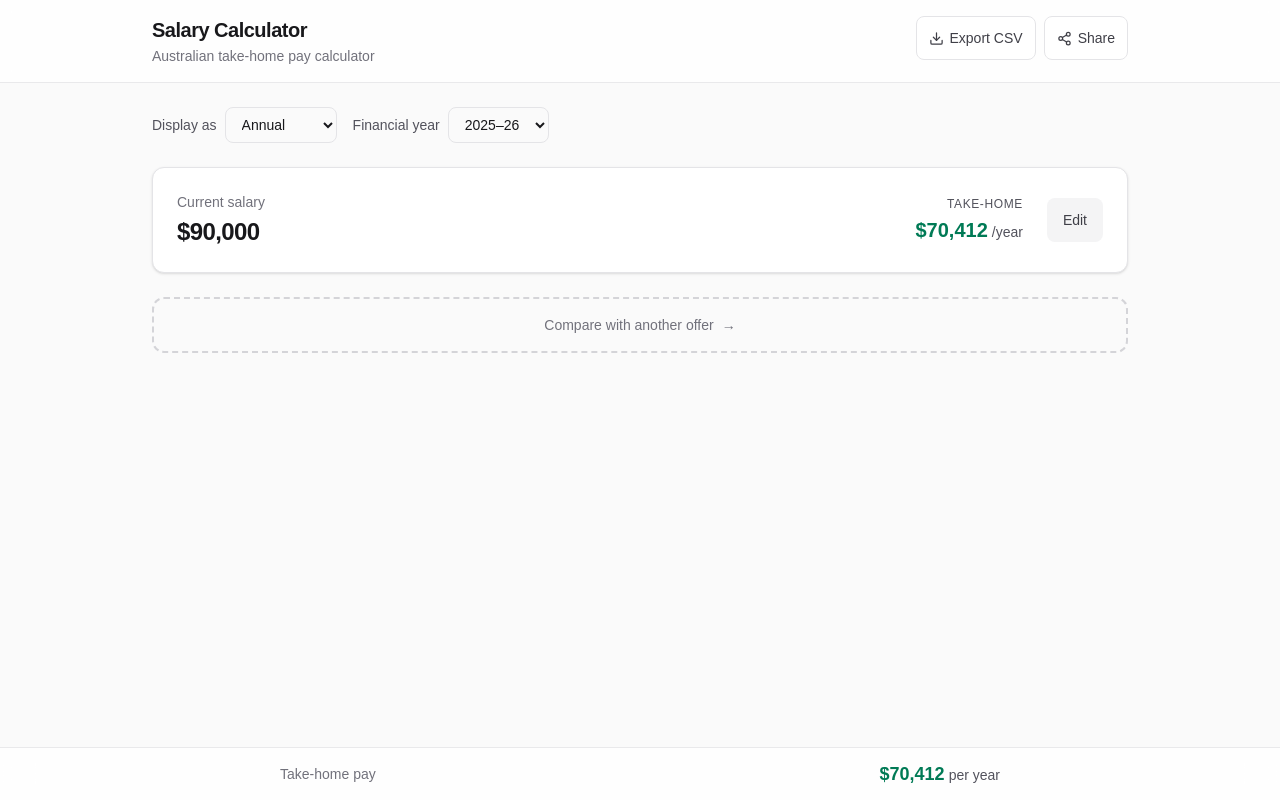
Test: QuickCheckClient › hides the compare button once two scenarios exist
Click the button "Compare with another offer →".
click(640, 325)  # box [152, 297, 1128, 353]
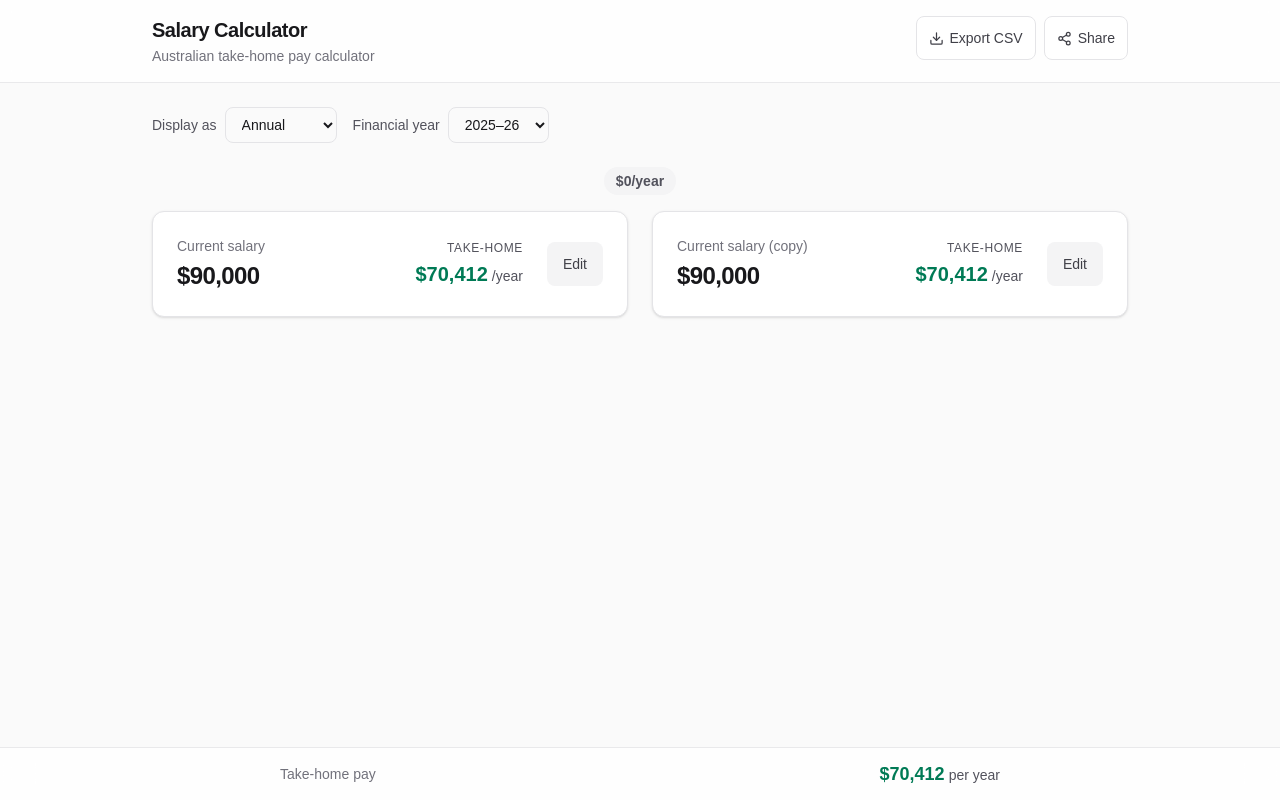
Result: the button "Compare with another offer" is gone
